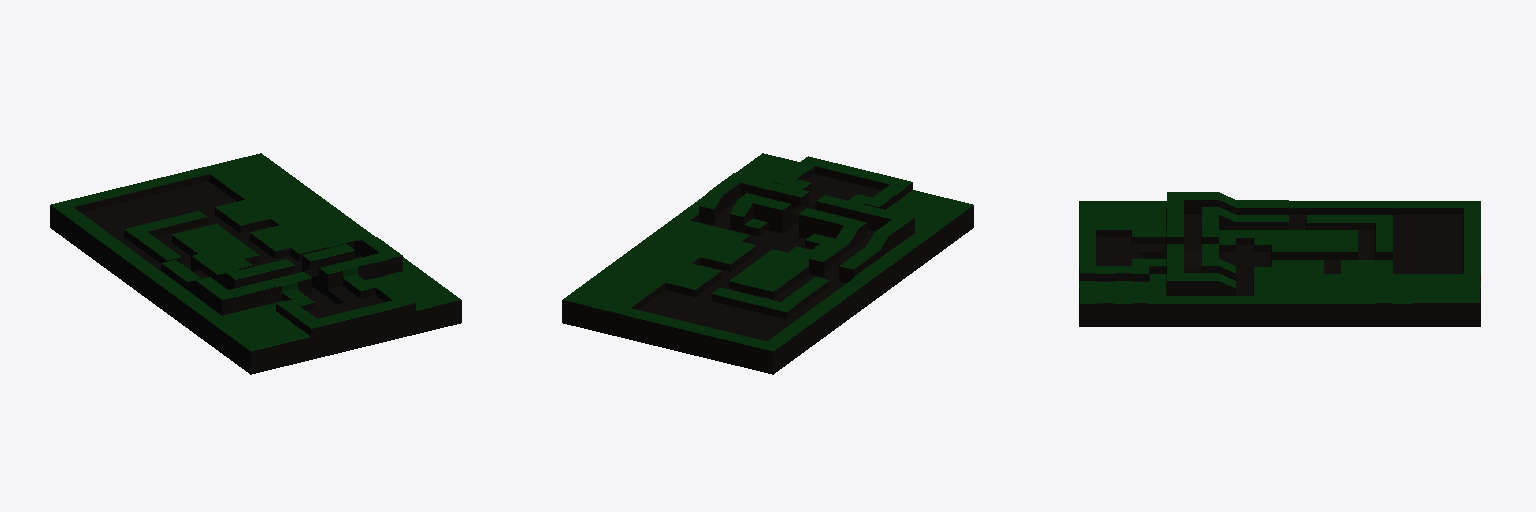
File: map_2_sniper.obj
The picture shows the model from 3 angles: view 1: azimuth 30°, elevation 25°; view 2: azimuth 150°, elevation 25°; view 3: azimuth 270°, elevation 25°; orthographic projection.
Visible parts, largest first — view 1: map_2_sniper; view 2: map_2_sniper; view 3: map_2_sniper.
Boxes of the visible parts, box(x1,y1,x2,y2) form: map_2_sniper: box(50, 153, 461, 374); map_2_sniper: box(562, 153, 973, 374); map_2_sniper: box(1079, 192, 1480, 326).
Size of the model in its own units: 14 by 2.5 by 23.